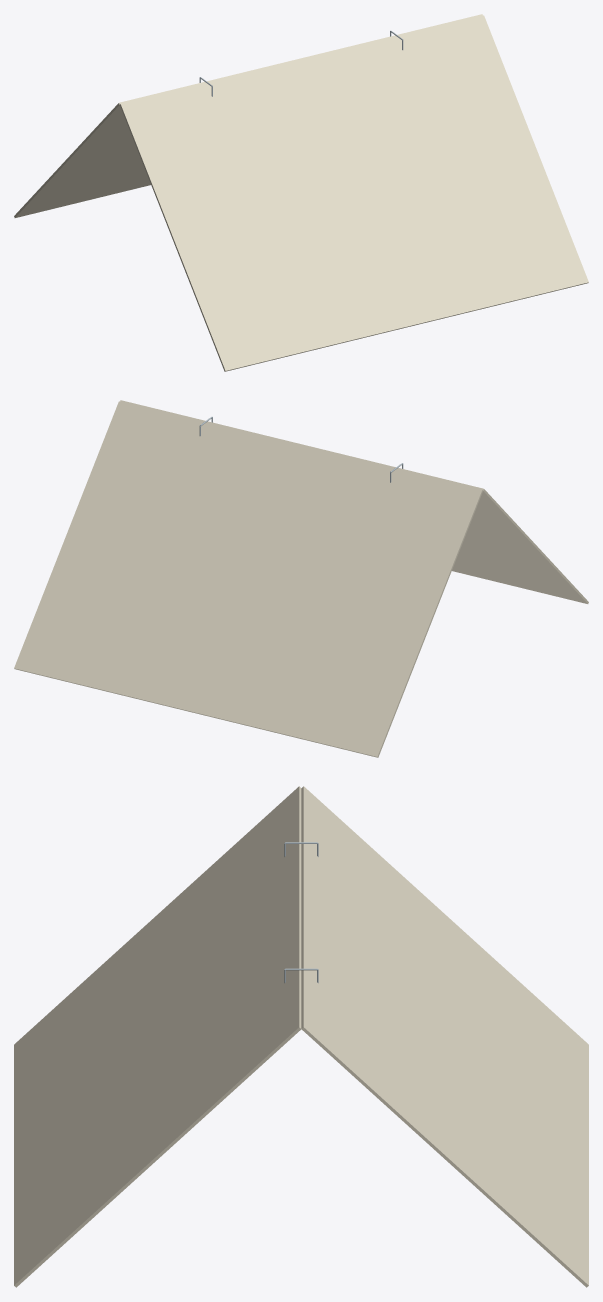
The model's file is paper.glb.
The picture shows the model from 3 angles, top to bottom: view 1: azimuth 30°, elevation 25°; view 2: azimuth 150°, elevation 25°; view 3: azimuth 270°, elevation 25°; orthographic projection. The views are drawn at different scales.
Visible parts, largest first — view 1: GatheredLeaves_1, GatheredLeaves_-1; view 2: GatheredLeaves_-1, GatheredLeaves_1; view 3: GatheredLeaves_-1, GatheredLeaves_1.
Boxes of the visible parts, x1=… form: GatheredLeaves_1: x1=120, y1=15, x2=588, y2=371; GatheredLeaves_-1: x1=14, y1=14, x2=482, y2=217; GatheredLeaves_-1: x1=14, y1=401, x2=482, y2=757; GatheredLeaves_1: x1=120, y1=400, x2=588, y2=603; GatheredLeaves_-1: x1=301, y1=786, x2=588, y2=1287; GatheredLeaves_1: x1=14, y1=786, x2=301, y2=1287.
Size of the model in its own units: 0.21 by 0.1064 by 0.2117.
